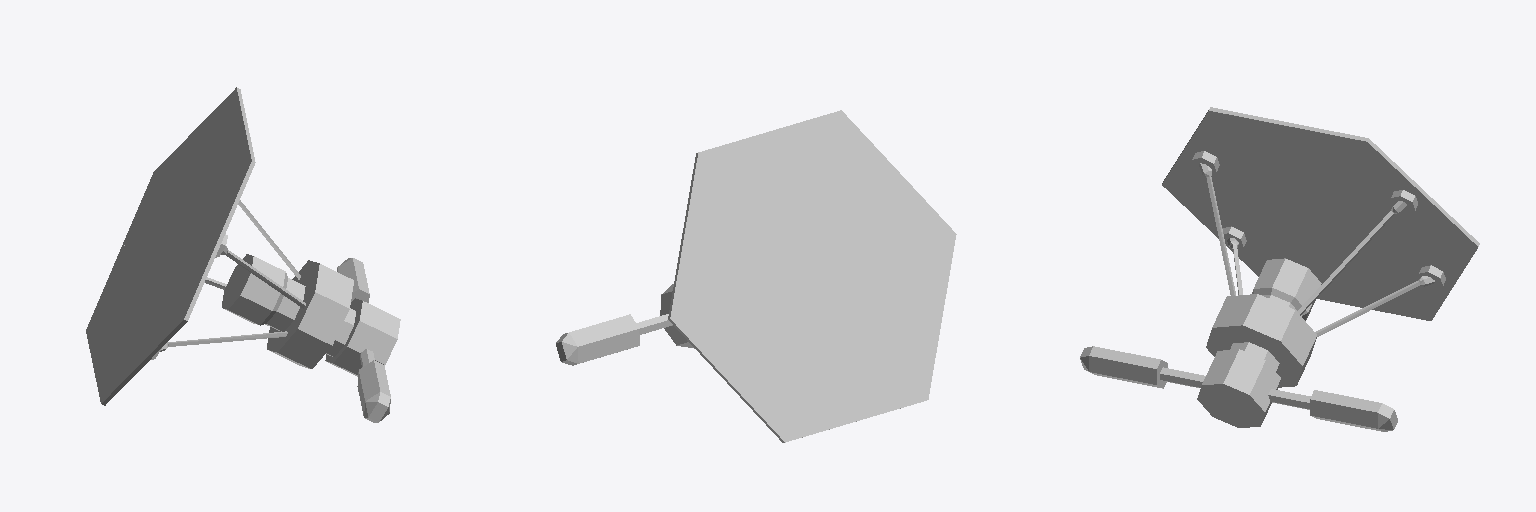
Rendered from stg300_MotReflector_q1_17.obj.
The picture shows the model from 3 angles: view 1: azimuth 30°, elevation 25°; view 2: azimuth 150°, elevation 25°; view 3: azimuth 270°, elevation 25°; orthographic projection.
Visible parts, largest first — view 1: polygon3, polygon2, polygon1, polygon0; view 2: polygon3, polygon2, polygon1; view 3: polygon2, polygon3, polygon1, polygon0.
Part boxes in pixels (left/top/right/bottom): polygon3: left=90, top=96, right=247, bottom=395; polygon2: left=86, top=87, right=353, bottom=405; polygon1: left=222, top=254, right=400, bottom=420; polygon0: left=353, top=258, right=390, bottom=422; polygon3: left=677, top=118, right=948, bottom=433; polygon2: left=668, top=110, right=956, bottom=442; polygon1: left=562, top=284, right=694, bottom=363; polygon2: left=1162, top=107, right=1479, bottom=387; polygon3: left=1222, top=123, right=1417, bottom=308; polygon1: left=1080, top=258, right=1395, bottom=431; polygon0: left=1080, top=346, right=1397, bottom=428.
Size of the model in its own units: 299 by 235 by 328.